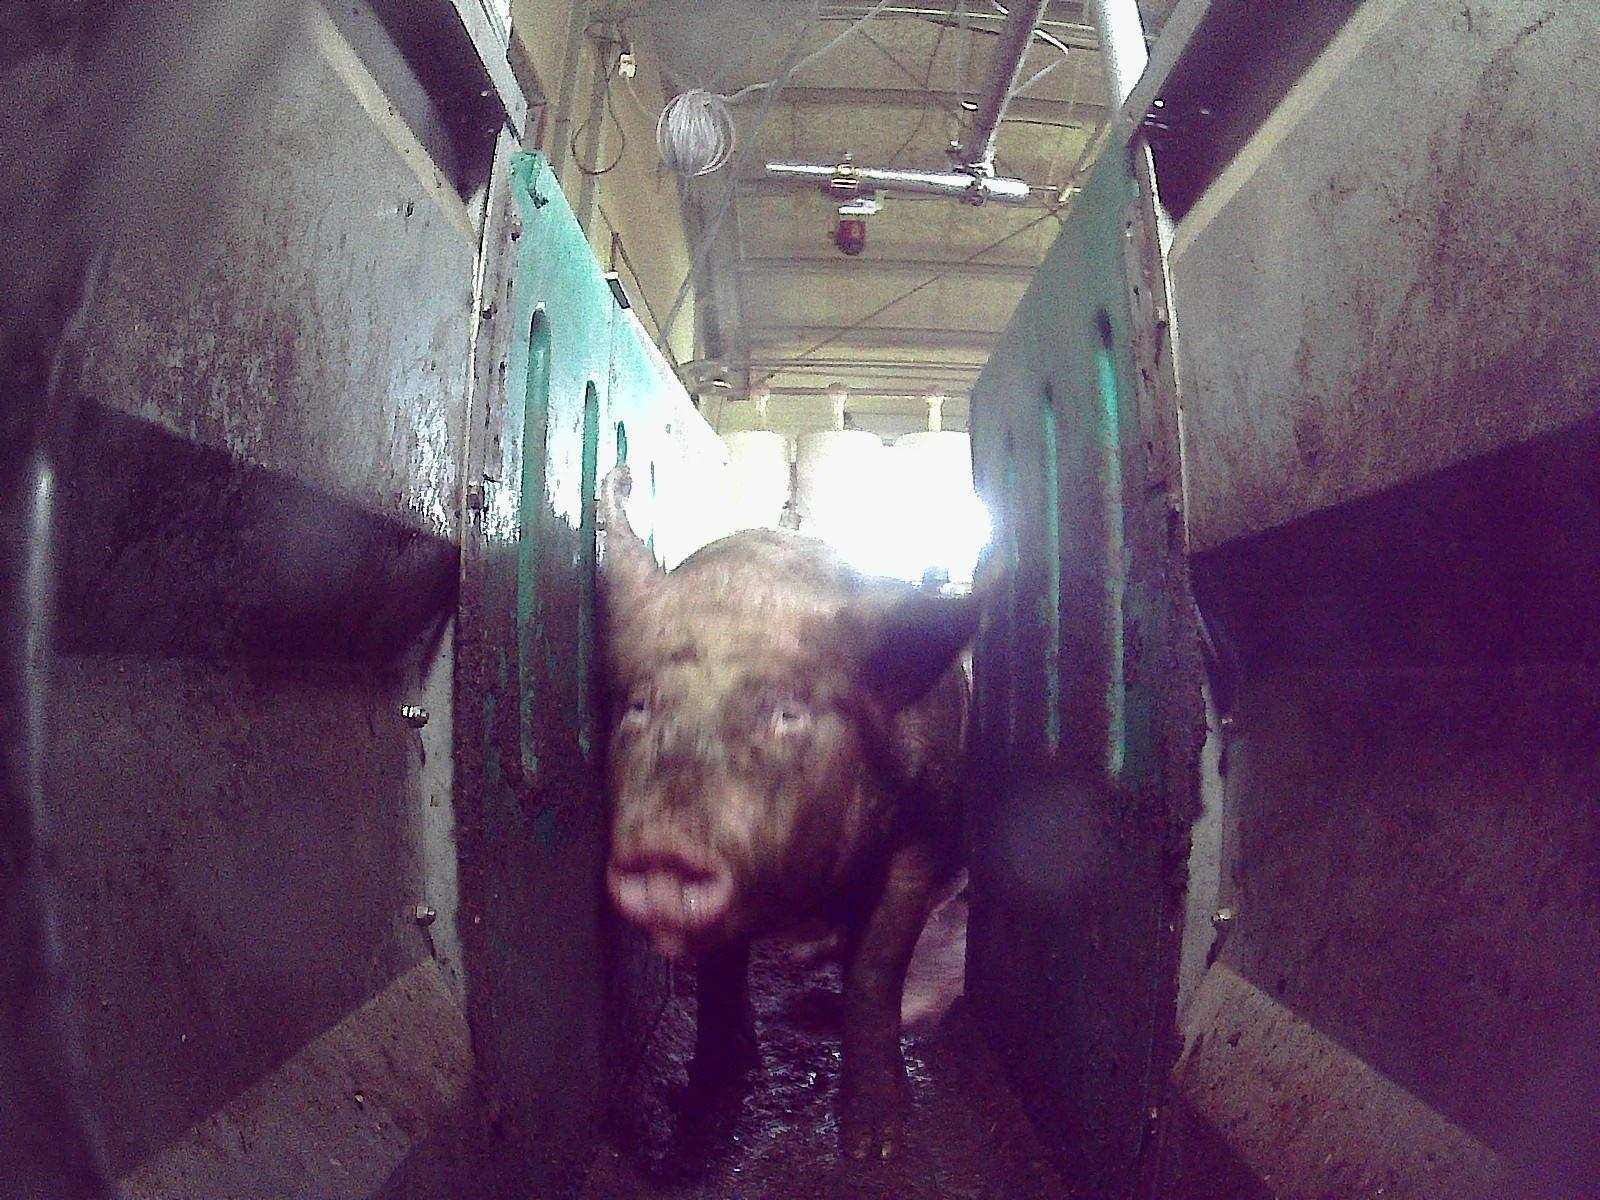Face: (604, 593, 870, 957)
